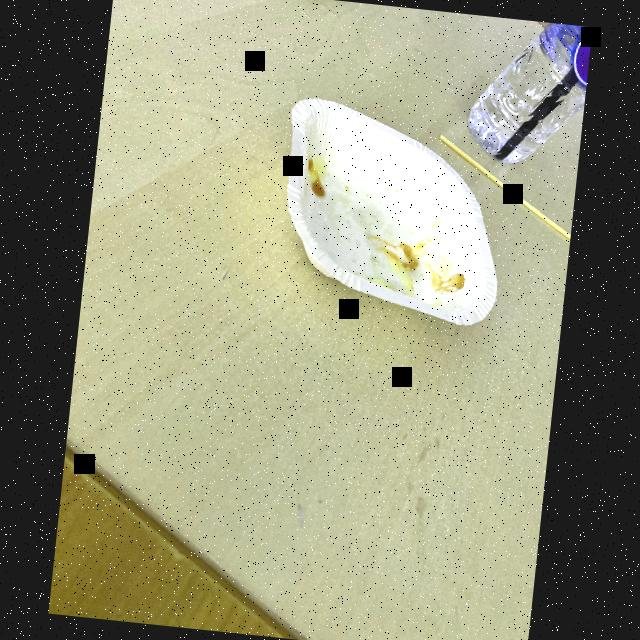cardboard_bowl: (260, 86, 522, 348)
